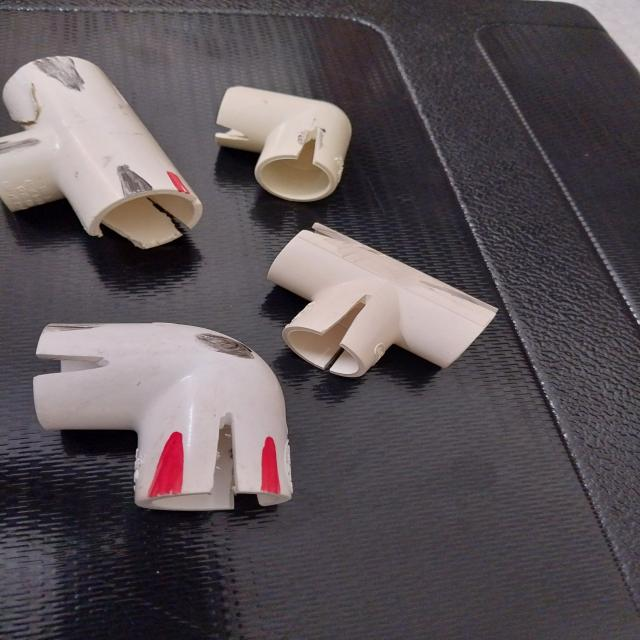Defective: (422, 268, 496, 312), (318, 296, 373, 354), (186, 332, 274, 368), (212, 416, 243, 506), (148, 438, 184, 502), (45, 59, 85, 93), (117, 164, 159, 195), (23, 73, 47, 126), (38, 356, 107, 374), (296, 128, 323, 172), (167, 163, 197, 198), (262, 442, 280, 499), (4, 136, 44, 159)
L Joint: (28, 319, 290, 506), (217, 85, 349, 203)
T Joint: (264, 215, 497, 382), (3, 56, 201, 251)
